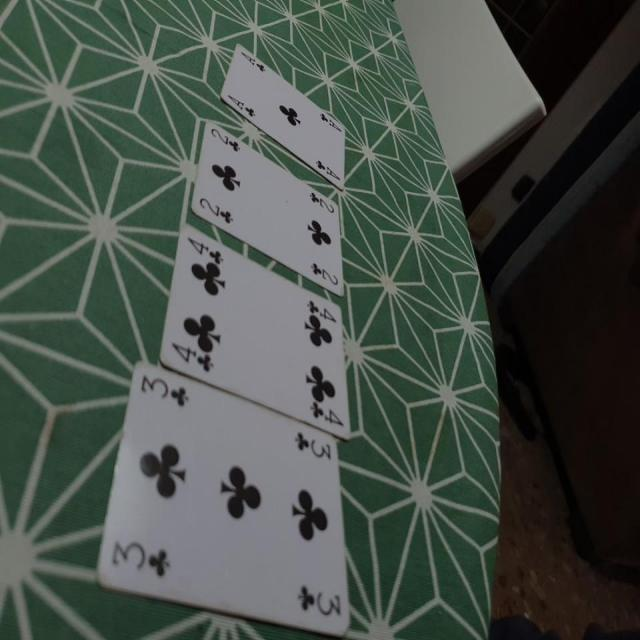2 Trefoils: (188, 118, 348, 297)
3 Trefoils: (98, 358, 354, 639)
4 Trefoils: (159, 222, 354, 444)
A Trefoils: (218, 40, 348, 191)
